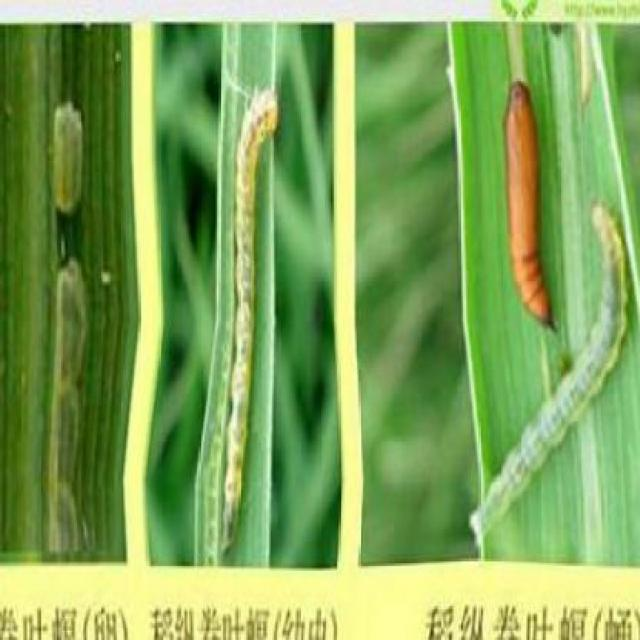leaf-folder: (448, 77, 626, 548), (203, 75, 305, 537), (35, 97, 100, 575)
